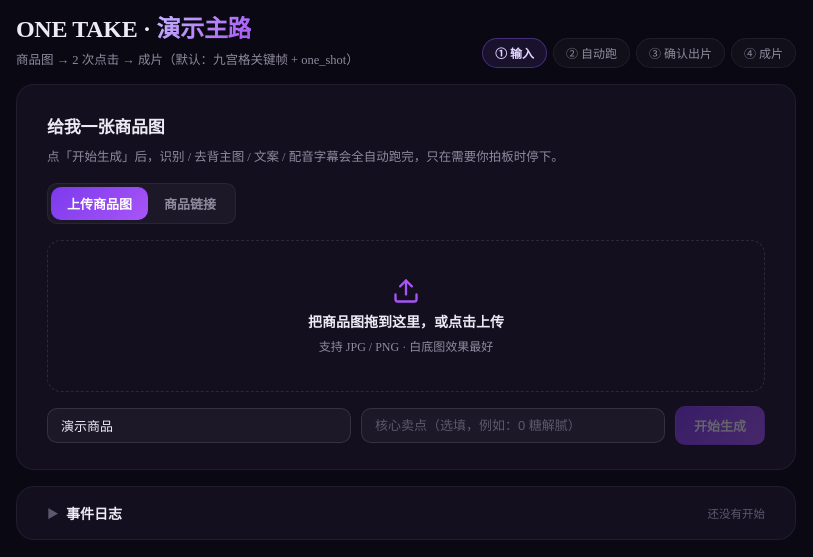
Test: 小白托管主路：第一屏 › 页内 tab 就能切到「商品链接」（所以侧边栏不必再开一个入口）
The width and height of the screenshot is (813, 557).
Step 1. Click the button "商品链接" → (190, 204), box [148,187,232,220]
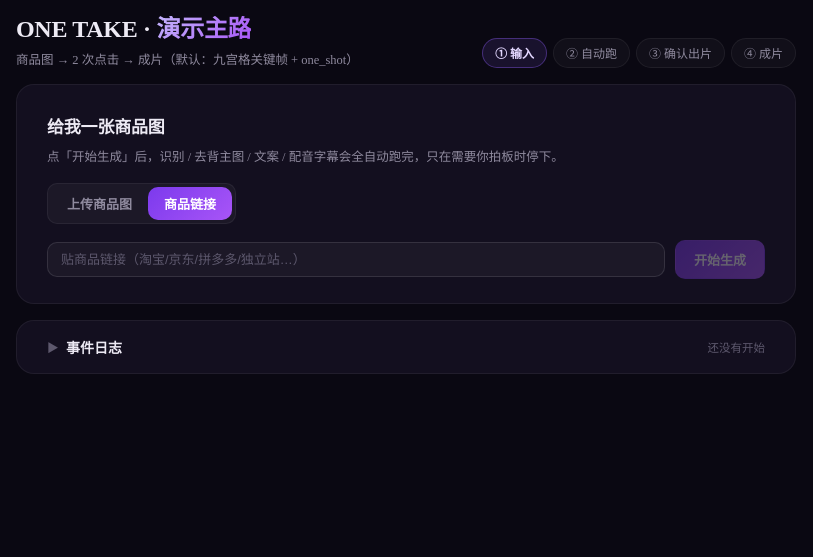
Check: the button "开始生成" is disabled, box [675,240,765,279]
Check: the field with placeholder "贴商品链接（淘宝/京东/拼多多/独立站…）" is shown, box [47,242,665,277]
